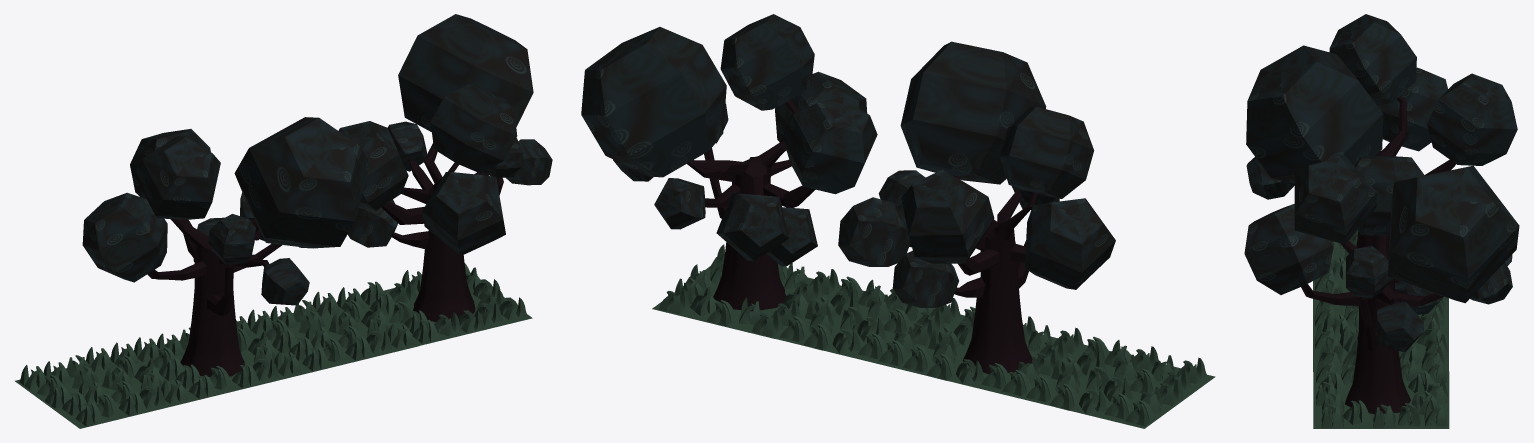
Rendered from Cartoon Tree Wall Piece.fbx.
3 views of the same model, side by side, from view 1: azimuth 30°, elevation 25°; view 2: azimuth 150°, elevation 25°; view 3: azimuth 270°, elevation 25° (orthographic). The views are drawn at different scales.
Visible parts, largest first — view 1: polySurface84; view 2: polySurface84; view 3: polySurface84.
Part boxes in pixels (x1=…): polySurface84: x1=15, y1=14, x2=552, y2=428; polySurface84: x1=581, y1=14, x2=1215, y2=428; polySurface84: x1=1244, y1=14, x2=1519, y2=428.
Bounding box in the file's own units: 333 × 157 × 150.
